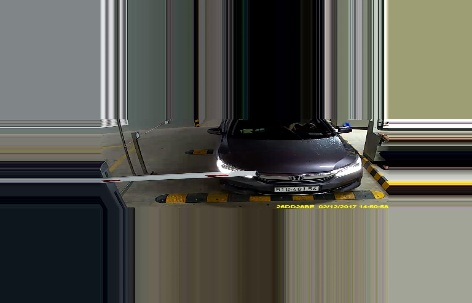plate: (274, 184, 321, 195)
